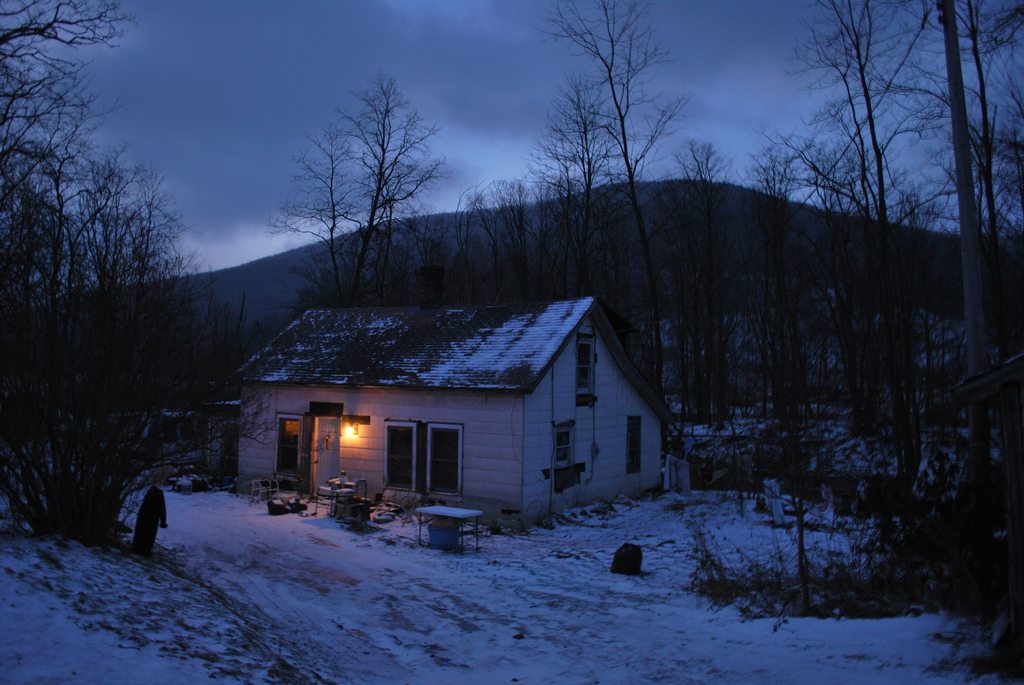Tree: (265, 0, 1024, 578), (0, 0, 274, 546)
